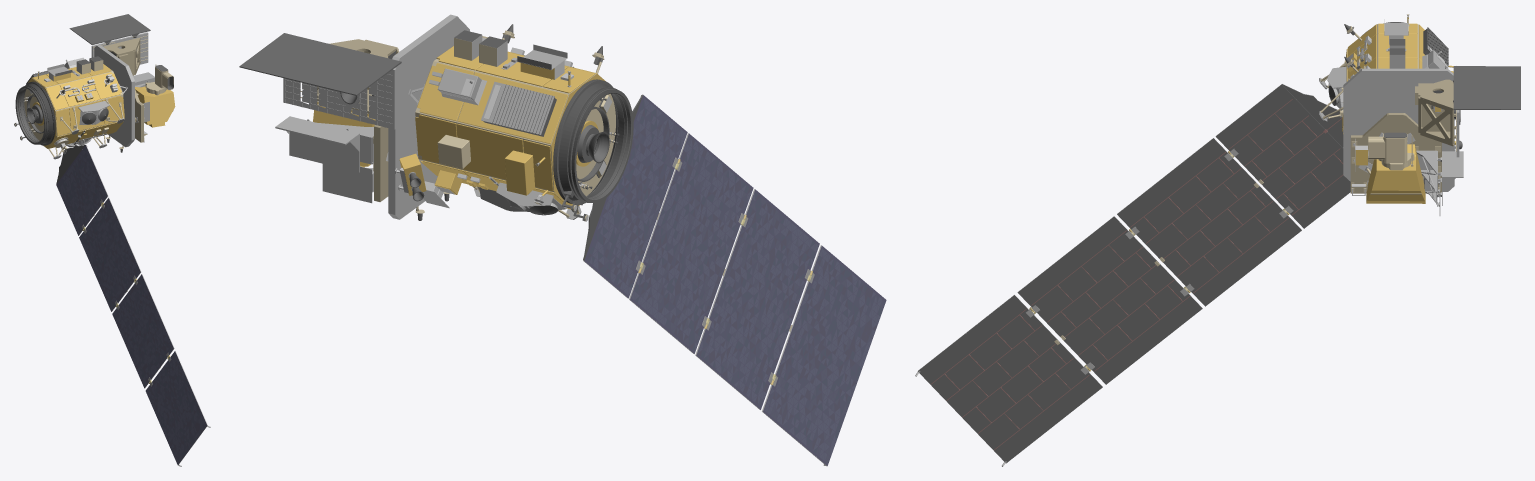
The model's file is Landsat 8.glb.
3 renders of one model, left to right at view 1: azimuth 30°, elevation 25°; view 2: azimuth 150°, elevation 25°; view 3: azimuth 270°, elevation 25°, orthographic. The views are drawn at different scales.
Visible parts, largest first — view 1: Layer_0; view 2: Layer_0; view 3: Layer_0.
Boxes of the visible parts, left/top/right/bottom form: Layer_0: left=14, top=14, right=210, bottom=466; Layer_0: left=239, top=14, right=886, bottom=466; Layer_0: left=915, top=14, right=1520, bottom=466.
Bounding box in the file's own units: 4.97 × 10.04 × 12.26.
